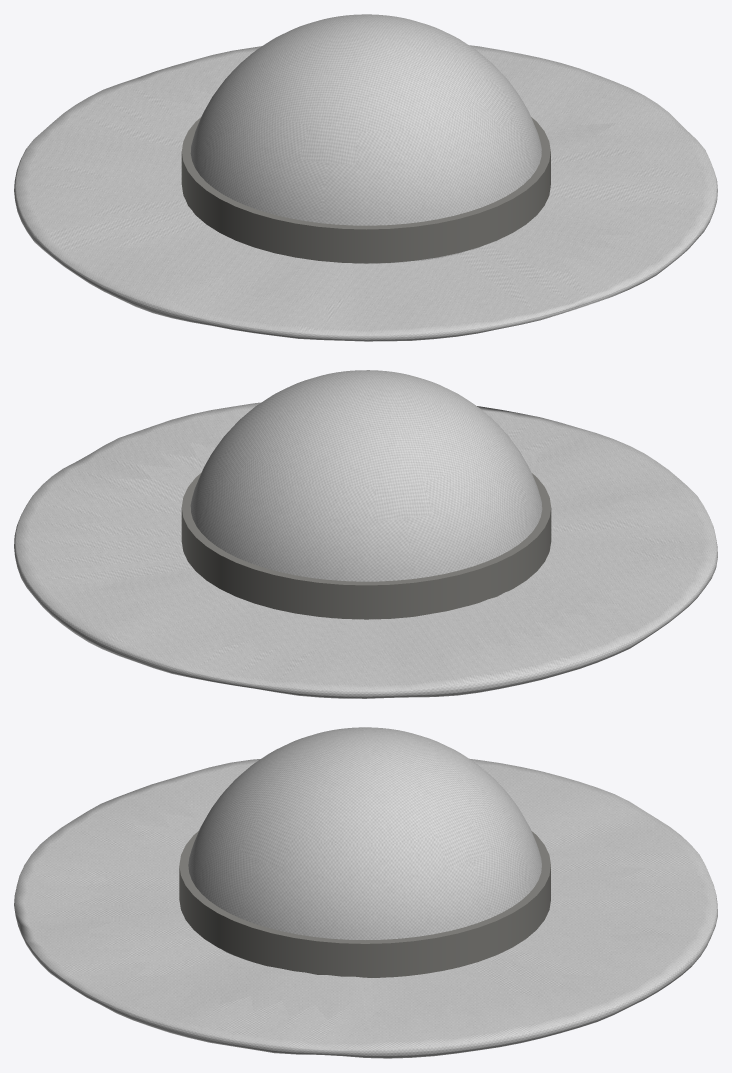
The model's file is sun_hat.glb.
3 renders of one model, top to bottom at view 1: azimuth 30°, elevation 25°; view 2: azimuth 150°, elevation 25°; view 3: azimuth 270°, elevation 25°, orthographic.
Visible parts, largest first — view 1: hat_brim, hat_crown, hat_band; view 2: hat_brim, hat_crown, hat_band; view 3: hat_brim, hat_crown, hat_band.
Part boxes in pixels (left/top/right/bottom): hat_brim: left=14, top=45, right=717, bottom=341; hat_crown: left=190, top=14, right=541, bottom=263; hat_band: left=181, top=117, right=550, bottom=263; hat_brim: left=14, top=402, right=717, bottom=698; hat_crown: left=190, top=370, right=542, bottom=618; hat_band: left=181, top=473, right=551, bottom=619; hat_brim: left=14, top=758, right=717, bottom=1058; hat_crown: left=188, top=727, right=541, bottom=960; hat_band: left=179, top=831, right=550, bottom=977.
Size of the model in its own units: 29.87 by 7.87 by 29.77.
Materials: 2 (1 with a texture image).
